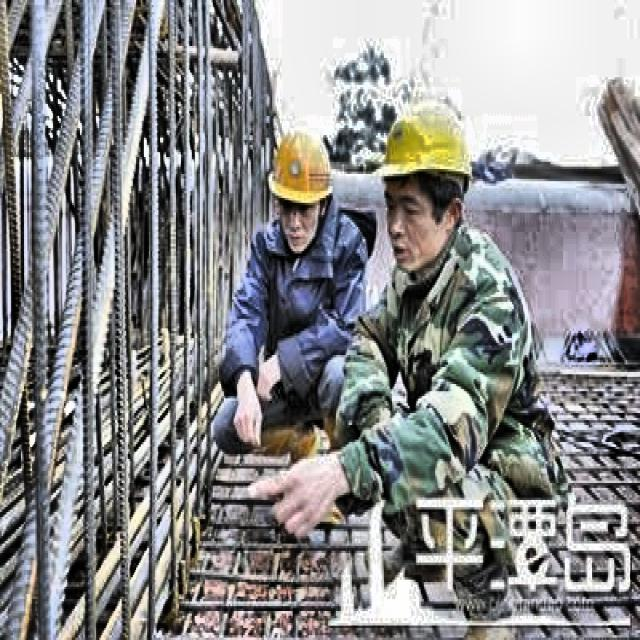helmet: (368, 77, 483, 273), (264, 116, 339, 251)
